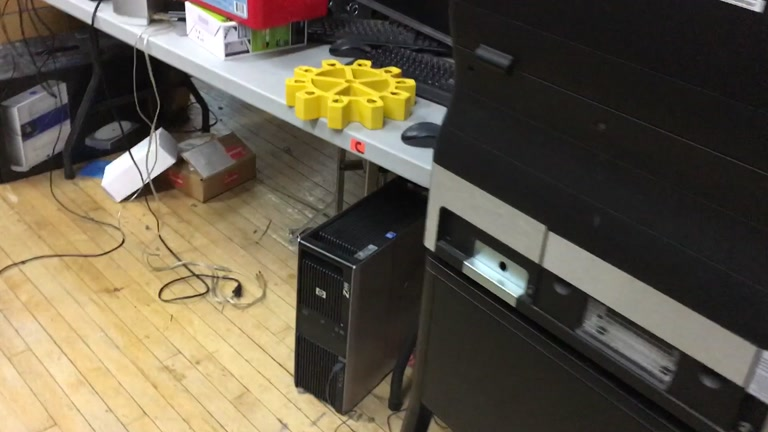gear: (284, 58, 416, 132)
